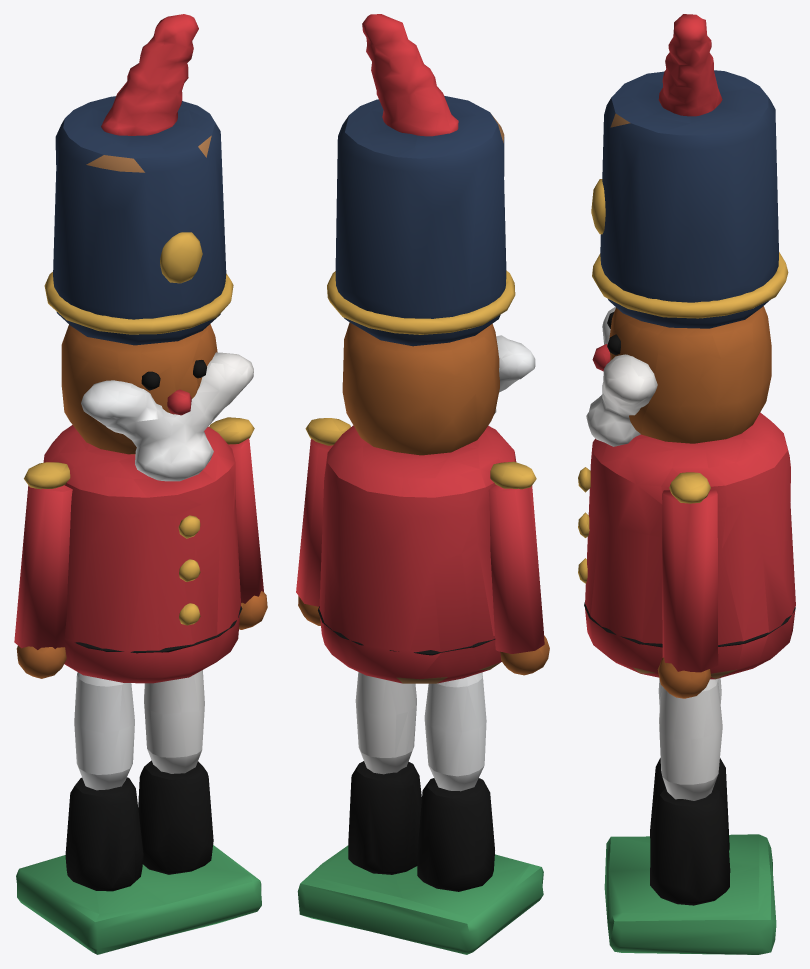
The model's file is frost_nutcracker_lod1.glb.
3 views of the same model, side by side, from view 1: azimuth 30°, elevation 25°; view 2: azimuth 150°, elevation 25°; view 3: azimuth 270°, elevation 25° (orthographic). The views are drawn at different scales.
Parts seen in each view (by area): view 1: frost_nutcracker.001; view 2: frost_nutcracker.001; view 3: frost_nutcracker.001.
Part boxes in pixels (box(x1,y1,x2,y2)): frost_nutcracker.001: box(14, 14, 267, 954); frost_nutcracker.001: box(296, 14, 549, 954); frost_nutcracker.001: box(578, 14, 795, 954).
Bounding box in the file's own units: 11.56 × 40.03 × 8.6.
